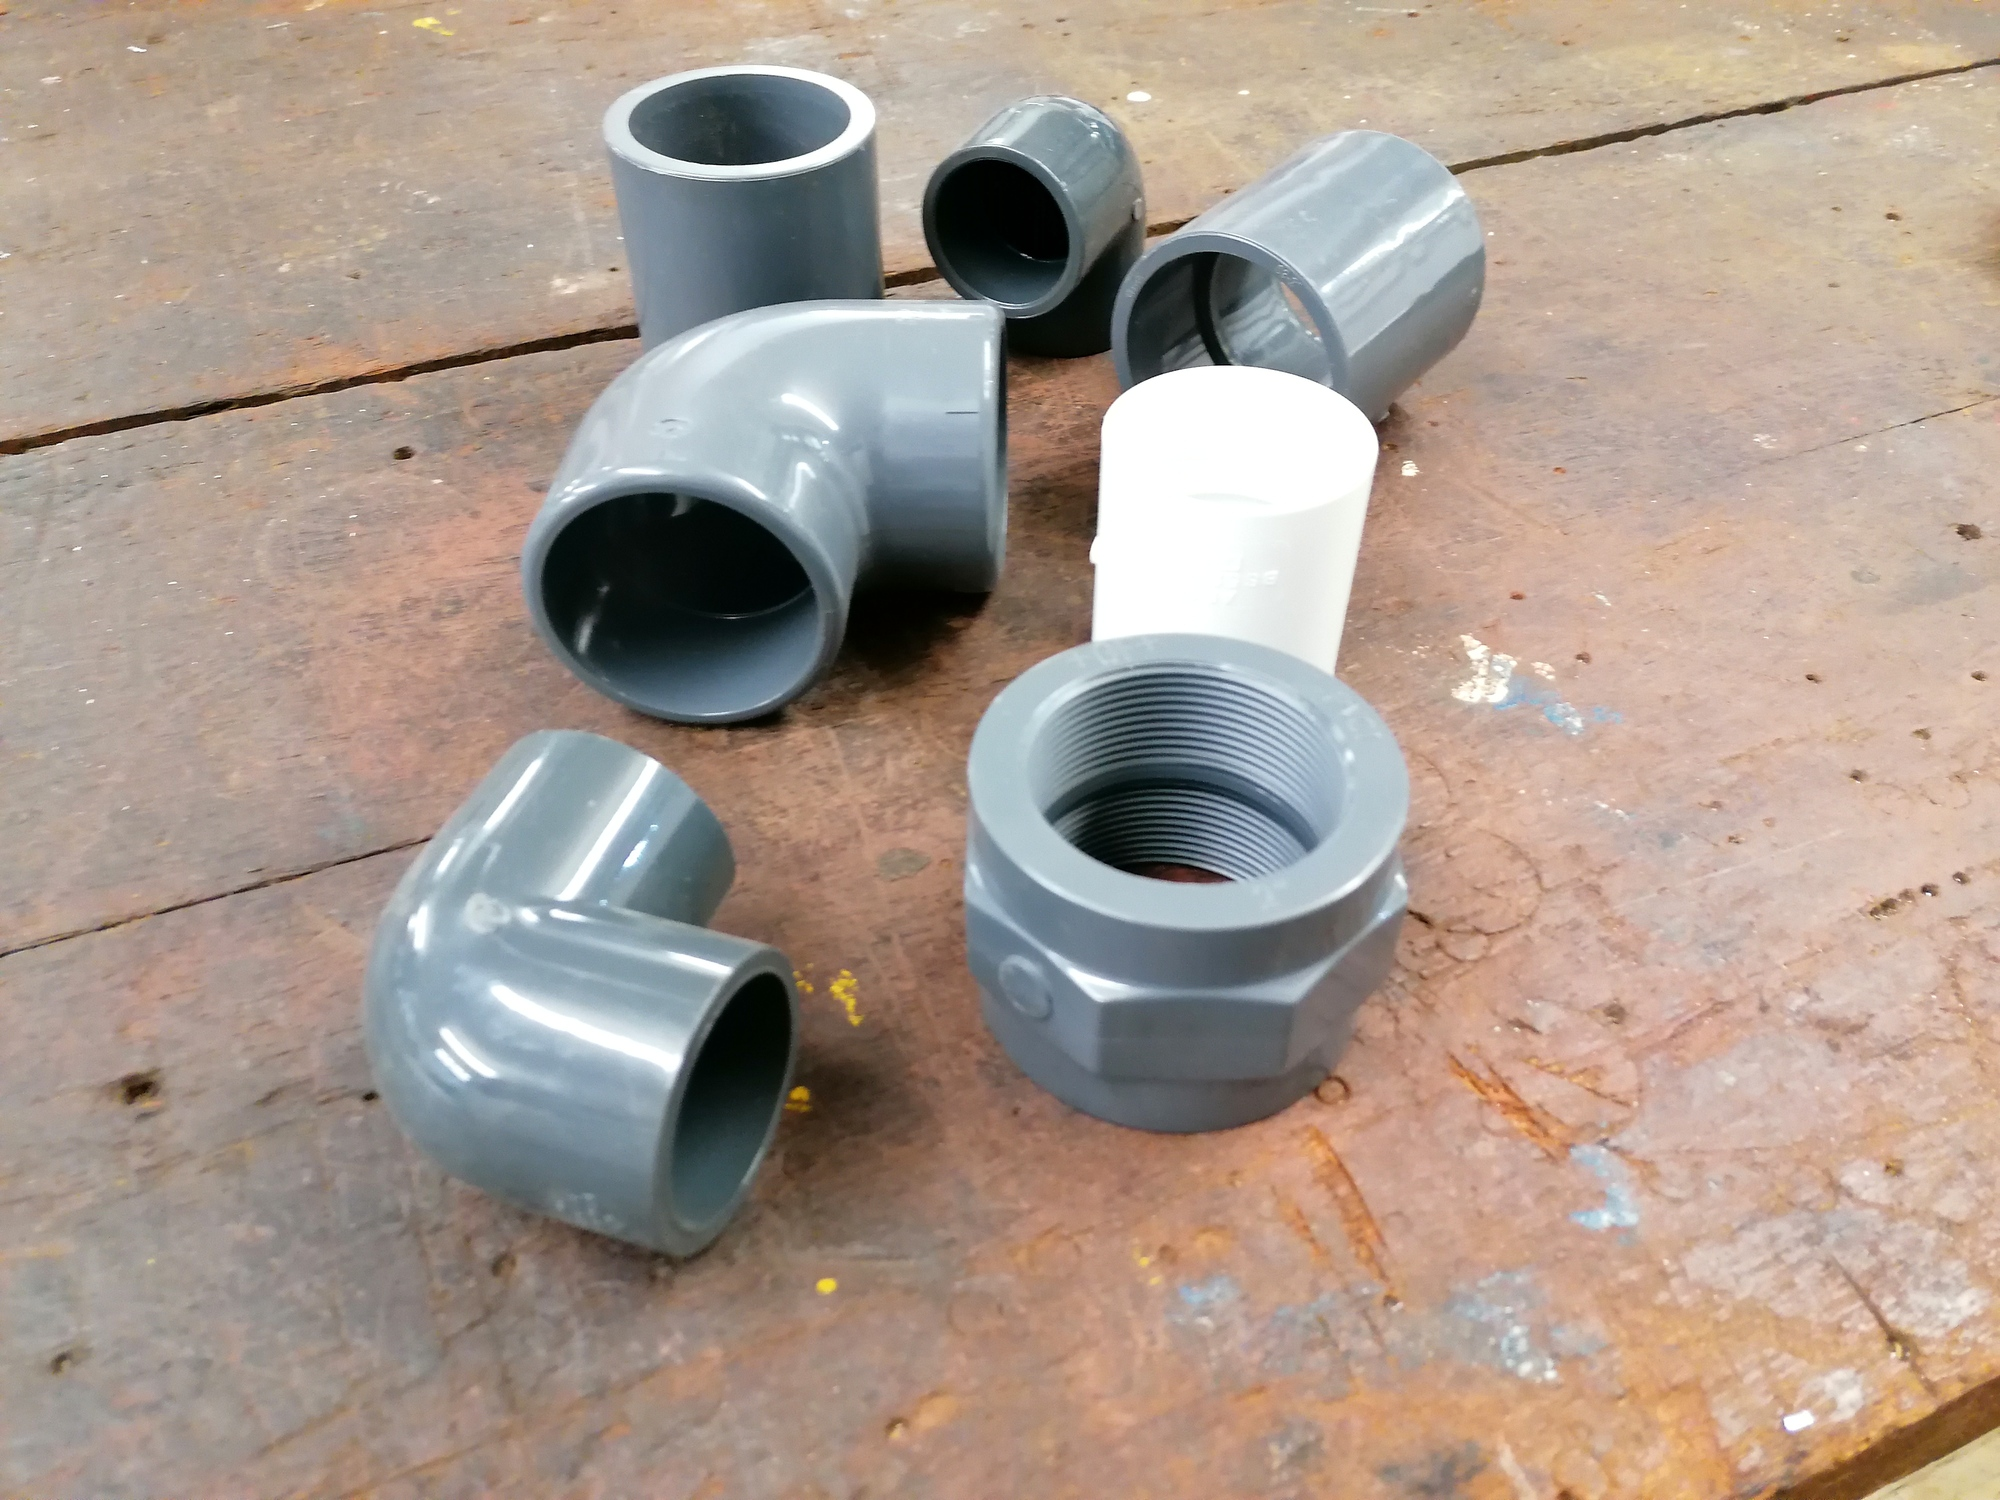nut: (957, 629, 1424, 1136)
pipe: (356, 720, 806, 1262), (517, 291, 1013, 723), (1104, 121, 1491, 422), (1087, 362, 1381, 674), (594, 60, 883, 355), (920, 88, 1143, 361)
